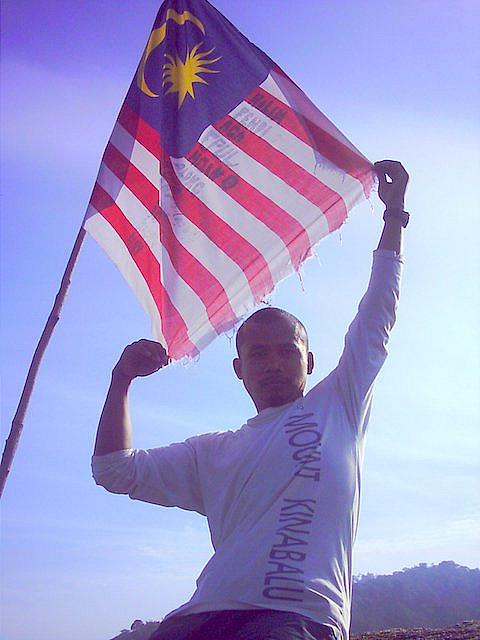Malaysia_flag: (80, 2, 374, 358)
